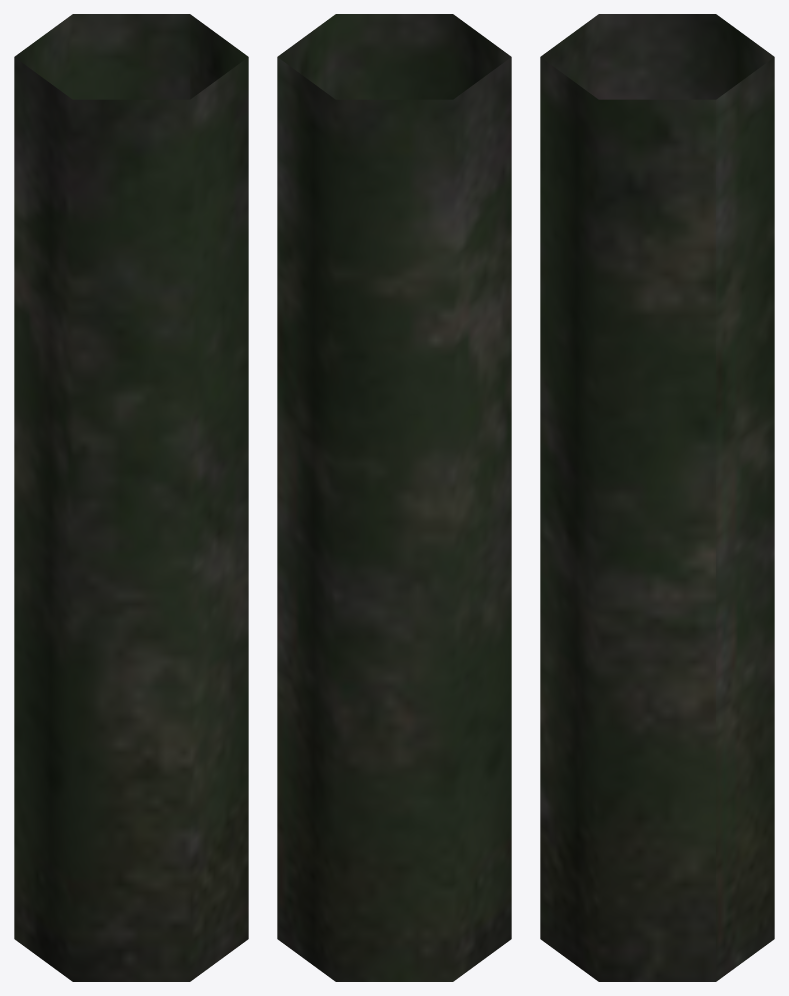
Rendered from MossyThick_S02.FBX.
3 views of the same model, side by side, from view 1: azimuth 30°, elevation 25°; view 2: azimuth 150°, elevation 25°; view 3: azimuth 270°, elevation 25° (orthographic).
Parts seen in each view (by area): view 1: MossyThick_S02; view 2: MossyThick_S02; view 3: MossyThick_S02.
Boxes of the visible parts, x1,y1,x2,y2 form: MossyThick_S02: [14, 14, 248, 981]; MossyThick_S02: [277, 14, 511, 981]; MossyThick_S02: [540, 14, 774, 981].
Bounding box in the file's own units: 20.78 × 99.67 × 24.
